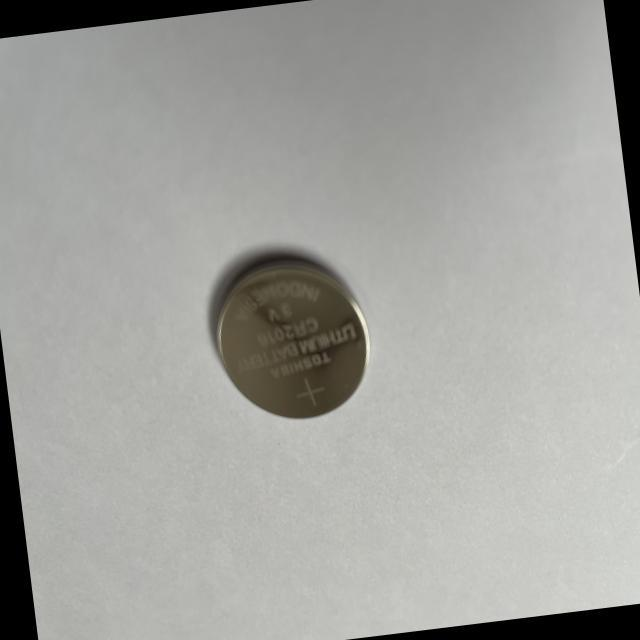COIN: (201, 238, 380, 430)
